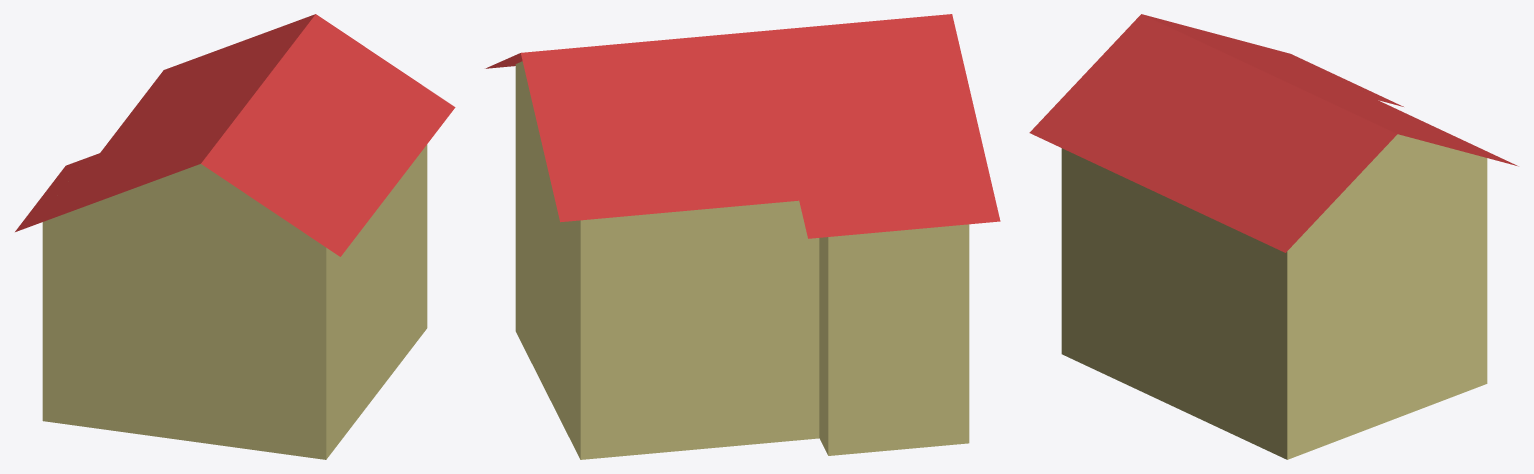
The picture shows the model from 3 angles, left to right: view 1: azimuth 30°, elevation 25°; view 2: azimuth 150°, elevation 25°; view 3: azimuth 270°, elevation 25°; orthographic projection. The views are drawn at different scales.
Parts seen in each view (by area): view 1: group_5, group_3, group_4; view 2: group_5, group_3, group_4; view 3: group_5, group_3, group_4.
Part boxes in pixels (bbox=[...]): group_5: bbox=[42, 144, 427, 459]; group_3: bbox=[43, 14, 455, 256]; group_4: bbox=[15, 14, 315, 231]; group_5: bbox=[515, 61, 969, 459]; group_3: bbox=[521, 14, 992, 222]; group_4: bbox=[485, 14, 1000, 238]; group_5: bbox=[1061, 134, 1487, 459]; group_3: bbox=[1029, 14, 1518, 252]; group_4: bbox=[1115, 14, 1404, 133].
Size of the model in its own units: 17.02 by 16.05 by 10.72.
